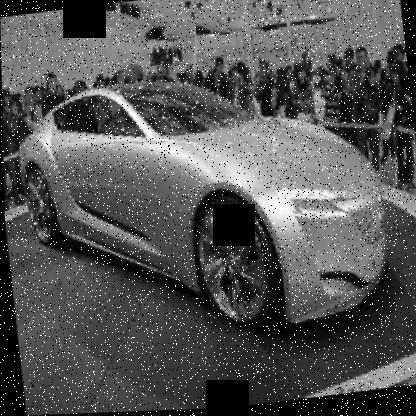not_emergency: (1, 34, 415, 401)
